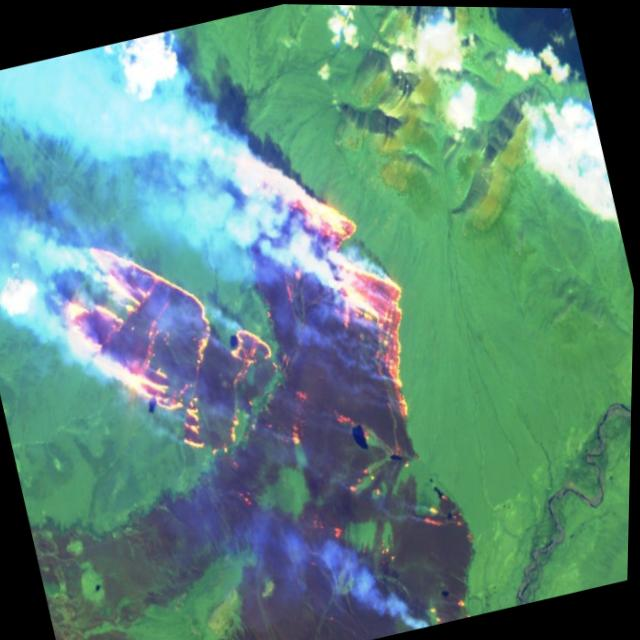fire: (28, 143, 446, 514)
